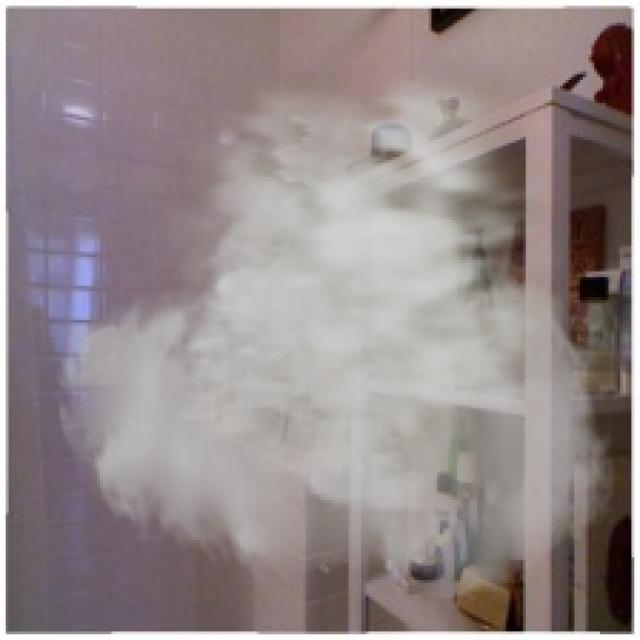smoke: (51, 46, 620, 603)
